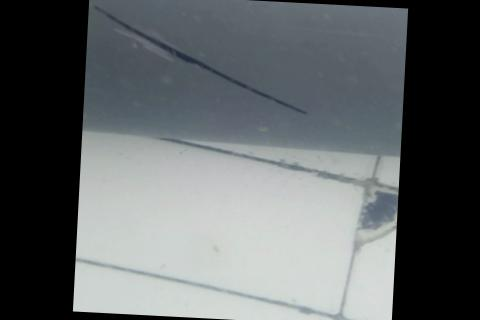keretakan: (84, 2, 313, 114)
